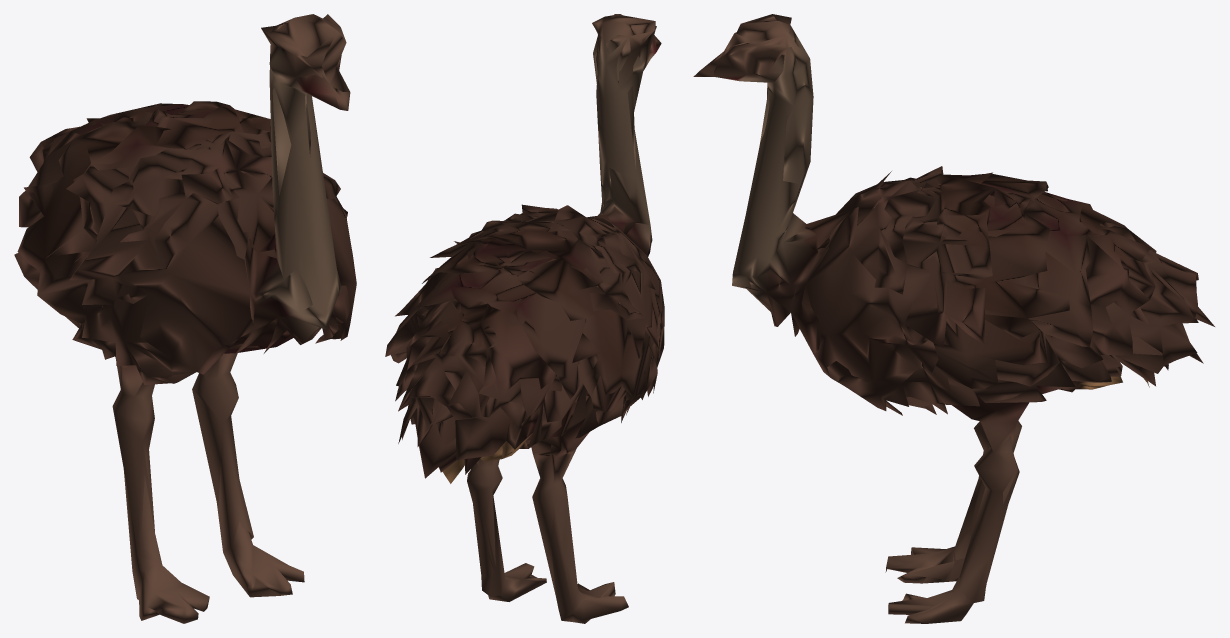
Rendered from gen3d-emu-lod0.glb.
3 renders of one model, left to right at view 1: azimuth 30°, elevation 25°; view 2: azimuth 150°, elevation 25°; view 3: azimuth 270°, elevation 25°, orthographic. The views are drawn at different scales.
Parts seen in each view (by area): view 1: part_0; view 2: part_0; view 3: part_0.
Boxes of the visible parts, x1,y1,x2,y2 form: part_0: [14, 14, 356, 623]; part_0: [385, 14, 664, 623]; part_0: [693, 14, 1214, 623].
Size of the model in its own units: 0.4546 by 0.999 by 0.8239.
